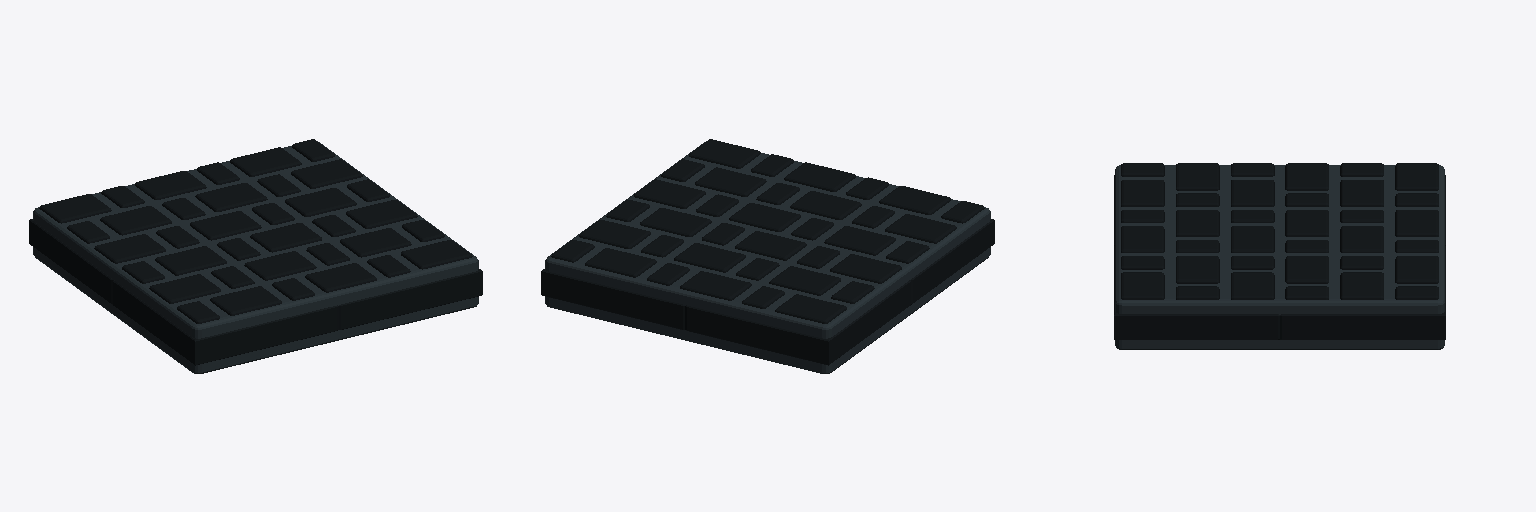
Rendered from tileBrickA_large.obj.
3 views of the same model, side by side, from view 1: azimuth 30°, elevation 25°; view 2: azimuth 150°, elevation 25°; view 3: azimuth 270°, elevation 25° (orthographic).
Visible parts, largest first — view 1: tileBrickA_large_Cube.2538; view 2: tileBrickA_large_Cube.2538; view 3: tileBrickA_large_Cube.2538.
Part boxes in pixels (x1,y1,x2,y2): tileBrickA_large_Cube.2538: (29, 139, 482, 373); tileBrickA_large_Cube.2538: (541, 139, 994, 373); tileBrickA_large_Cube.2538: (1114, 163, 1445, 349).
Bounding box in the file's own units: 6.05 × 1.06 × 6.05.